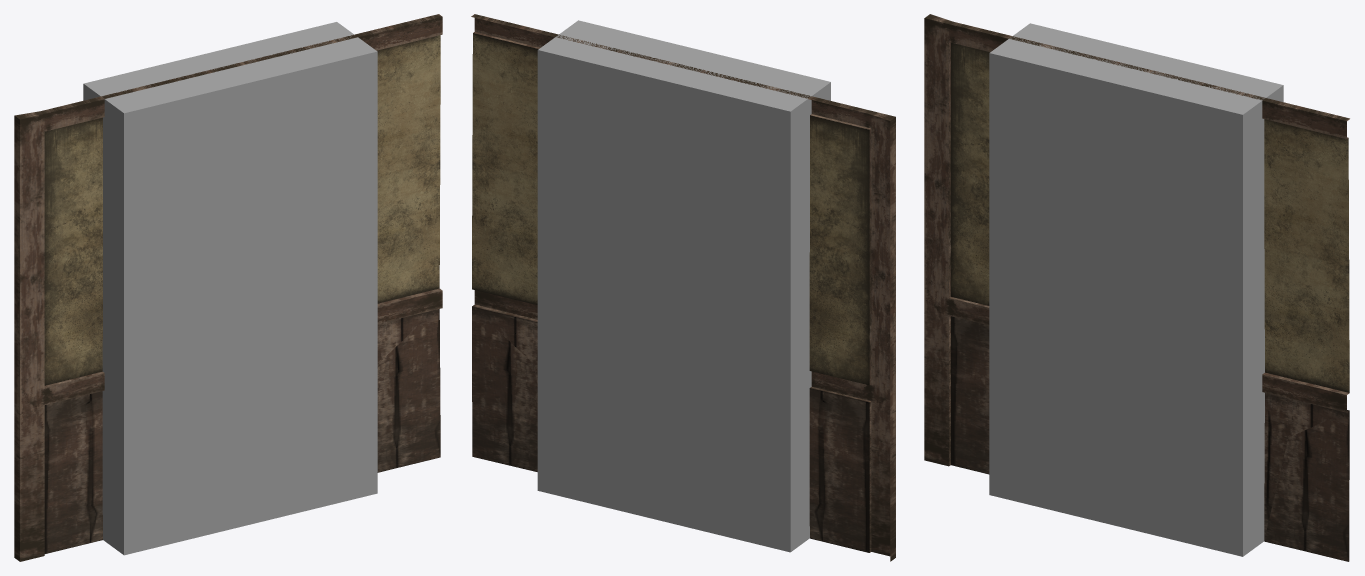
Rendered from ReWall2_Cut.fbx.
3 renders of one model, left to right at view 1: azimuth 30°, elevation 25°; view 2: azimuth 150°, elevation 25°; view 3: azimuth 330°, elevation 25°, orthographic.
Visible parts, largest first — view 1: pCube1, RrWall2, ReWallCut; view 2: pCube1, ReWallCut, RrWall2; view 3: pCube1, RrWall2, ReWallCut.
Part boxes in pixels (x1,y1,x2,y2): pCube1: (83,22,377,555); RrWall2: (14,14,442,561); ReWallCut: (14,17,442,561); pCube1: (537,20,830,552); ReWallCut: (471,16,895,560); RrWall2: (471,14,895,561); pCube1: (989,23,1283,556); RrWall2: (924,14,1349,561); ReWallCut: (924,18,1349,561).
Bounding box in the file's own units: 300 × 300 × 50.
Materials: 3 (2 with a texture image).
